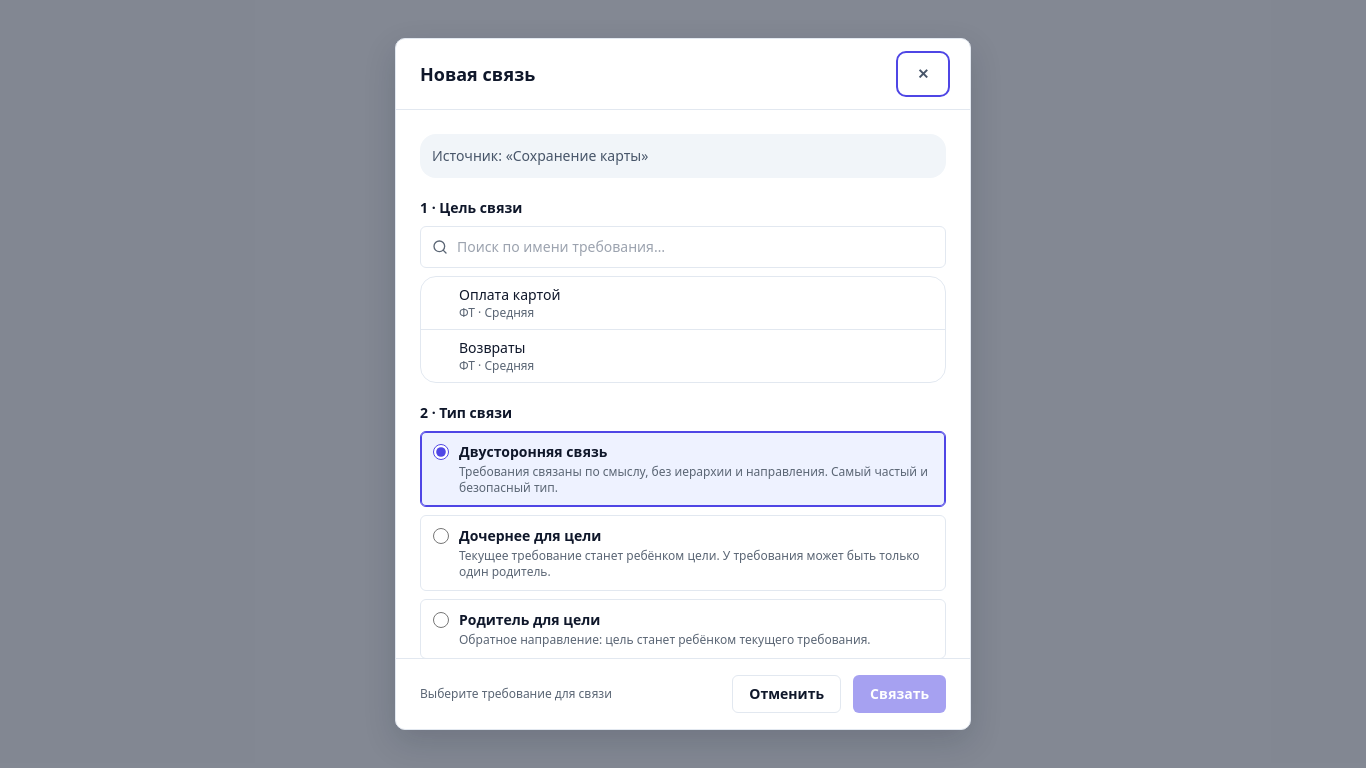
LinkModal (T-606, FR-8) › T4: the search field stays a search field; the chosen target is a chip with a reset ✕
The width and height of the screenshot is (1366, 768).
In the search field with test id "link-search": (683, 247) [420,226,946,268], type "Оплата"
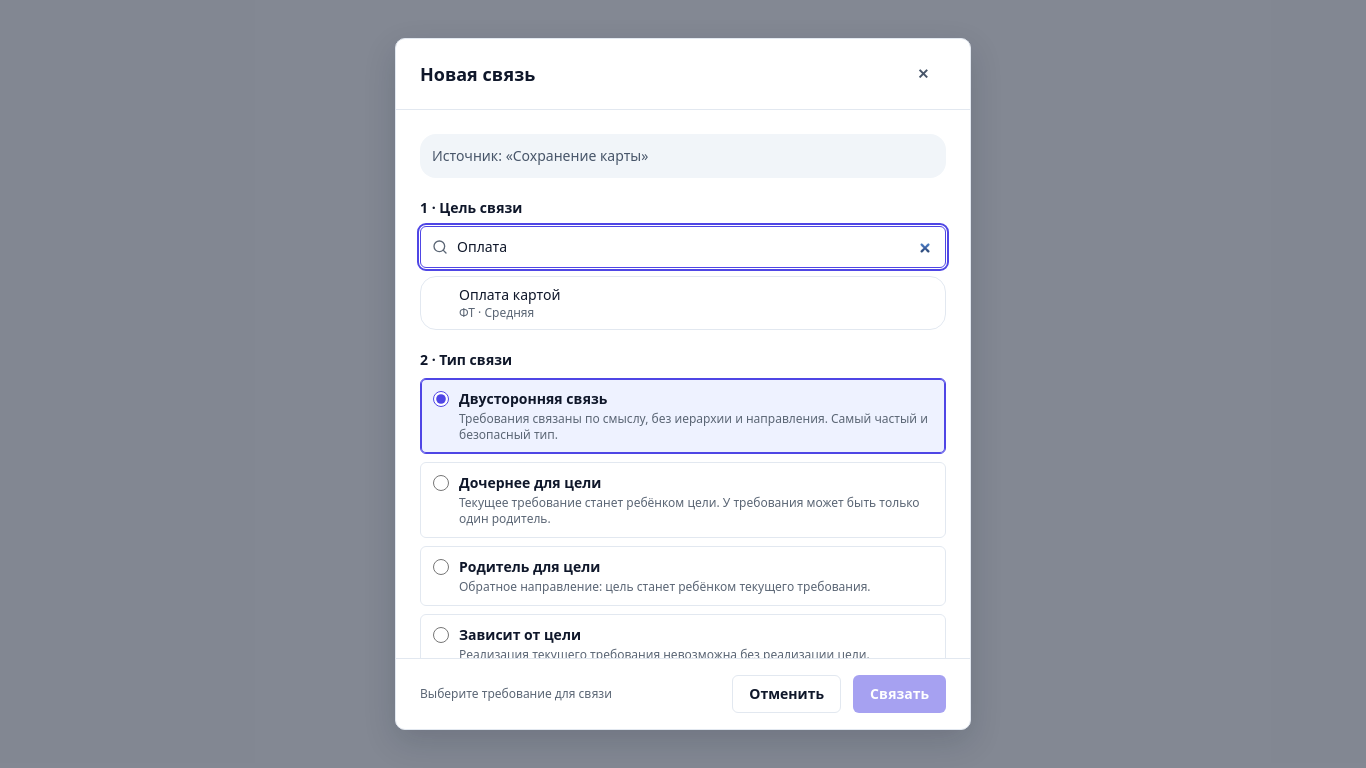
Click the option with test id "link-result-a1": (510, 295) [421,277,945,329]
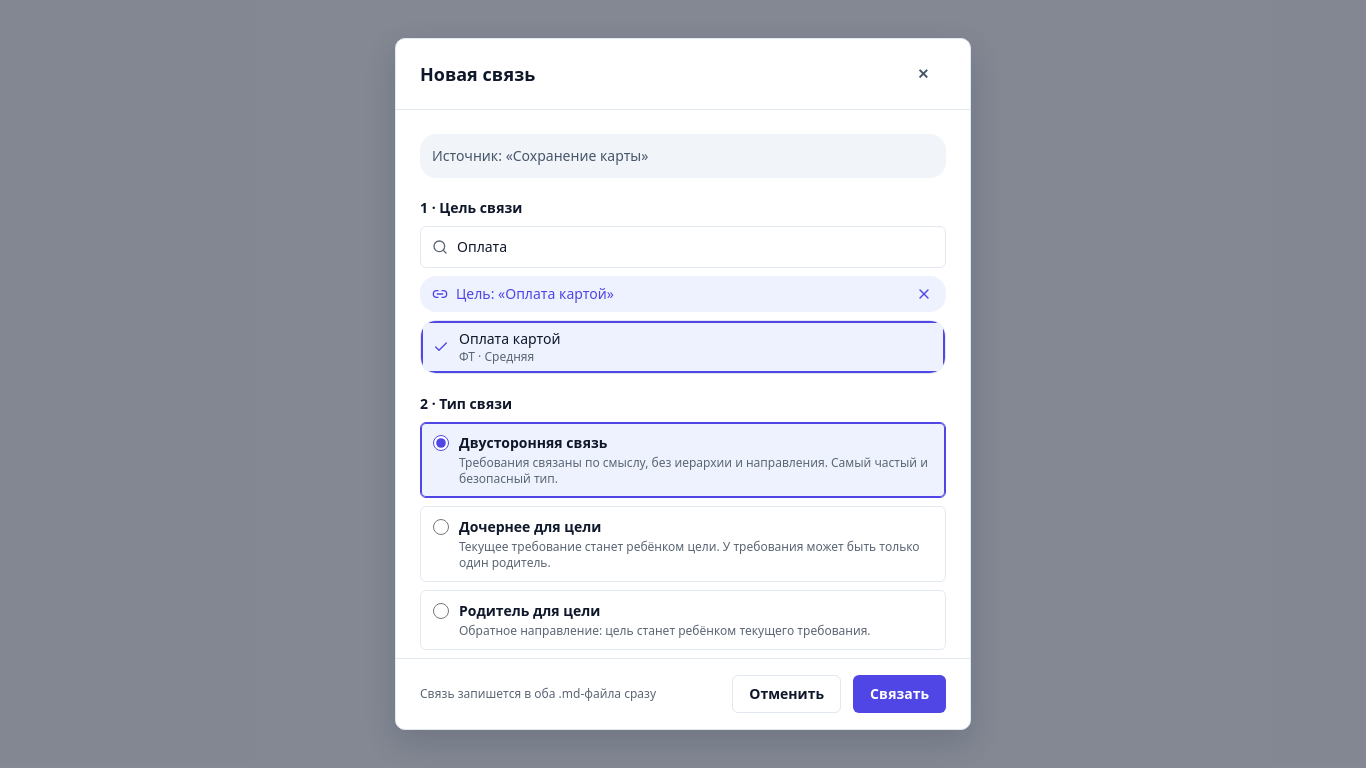
Expected: the message with test id "link-target-chip" reads "Цель: «Оплата картой»", [420,276,946,312]
// Reset clears the selection and disables submit again.
Click the button with test id "link-target-reset": (924, 294) [914,284,934,304]
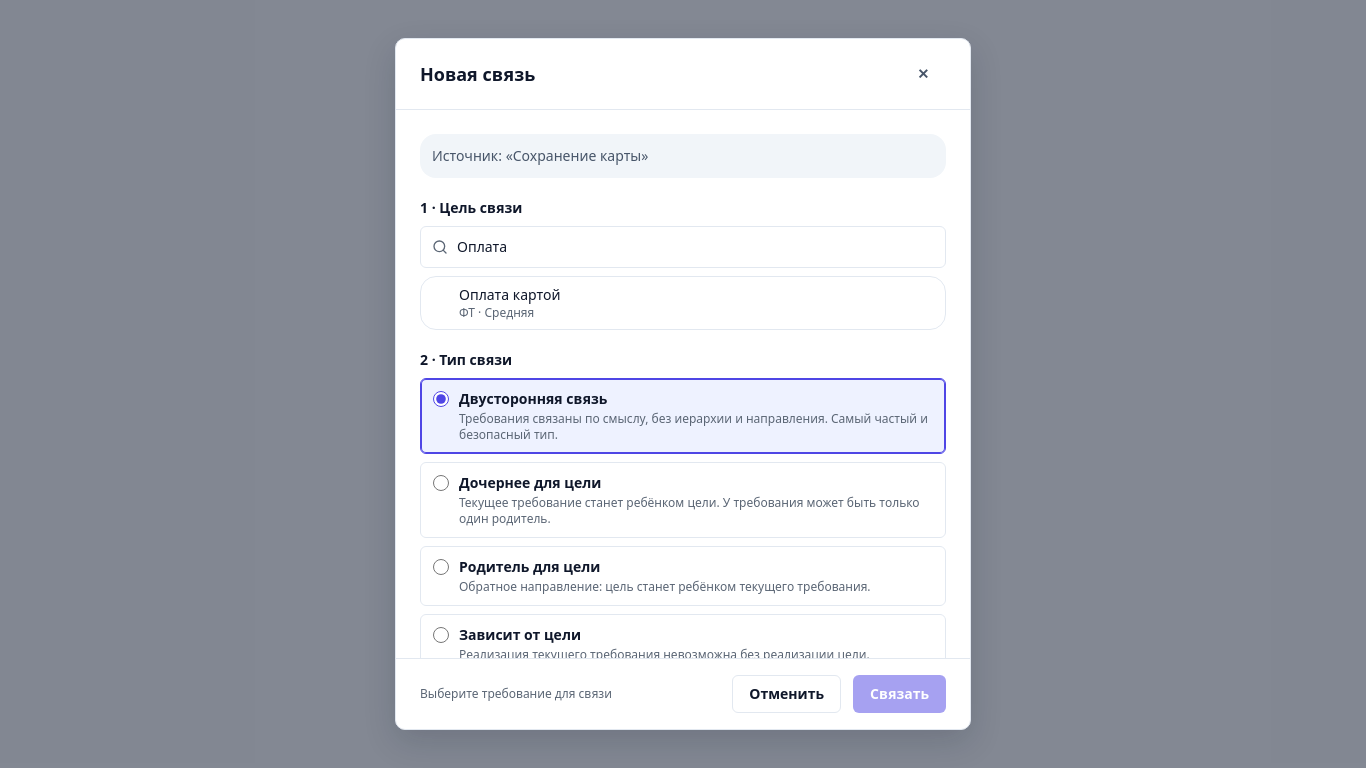
Expected: the message with test id "link-target-chip" is gone
Expected: the button with test id "link-submit" is disabled, [853,675,946,713]
